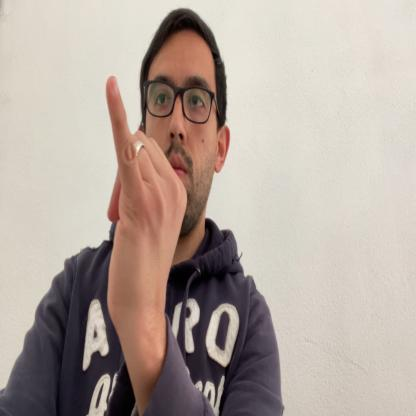I: (105, 72, 188, 323)
